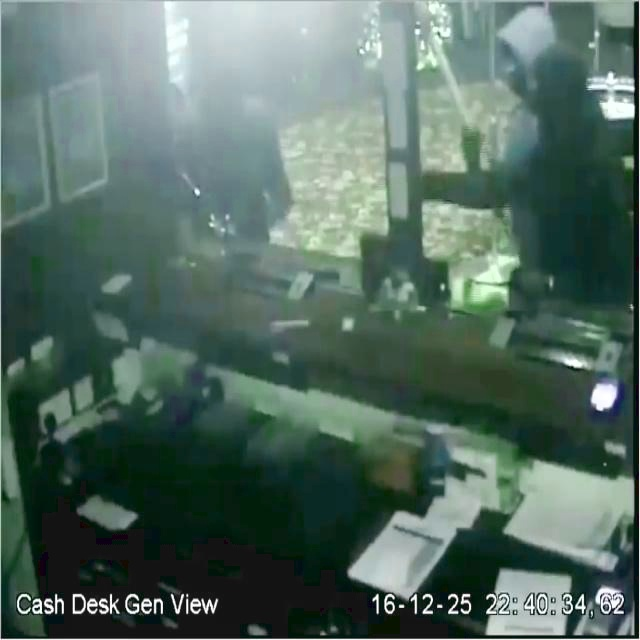gun: (415, 3, 491, 149)
